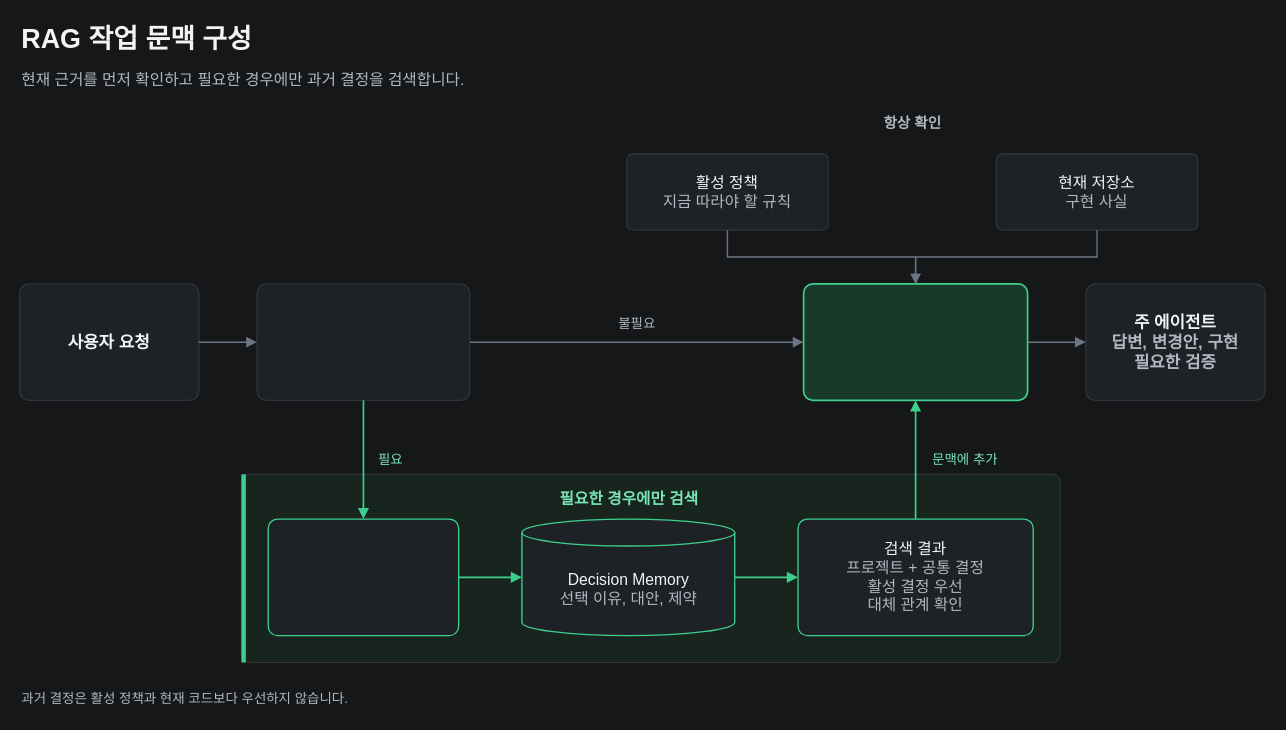
Some shapes in this 1286 by 730 pixel diagram are drawn without their labels. The centre of each missing label's shape, as x and y in pixels:
"과거 판단의 이유가 필요한가?" belongs at (x=363, y=342).
"노션 MCP 지정된 범위 조회" belongs at (x=363, y=577).
"작업 문맥 요청 + 정책 + 코드 + 필요한 결정" belongs at (x=915, y=342).
